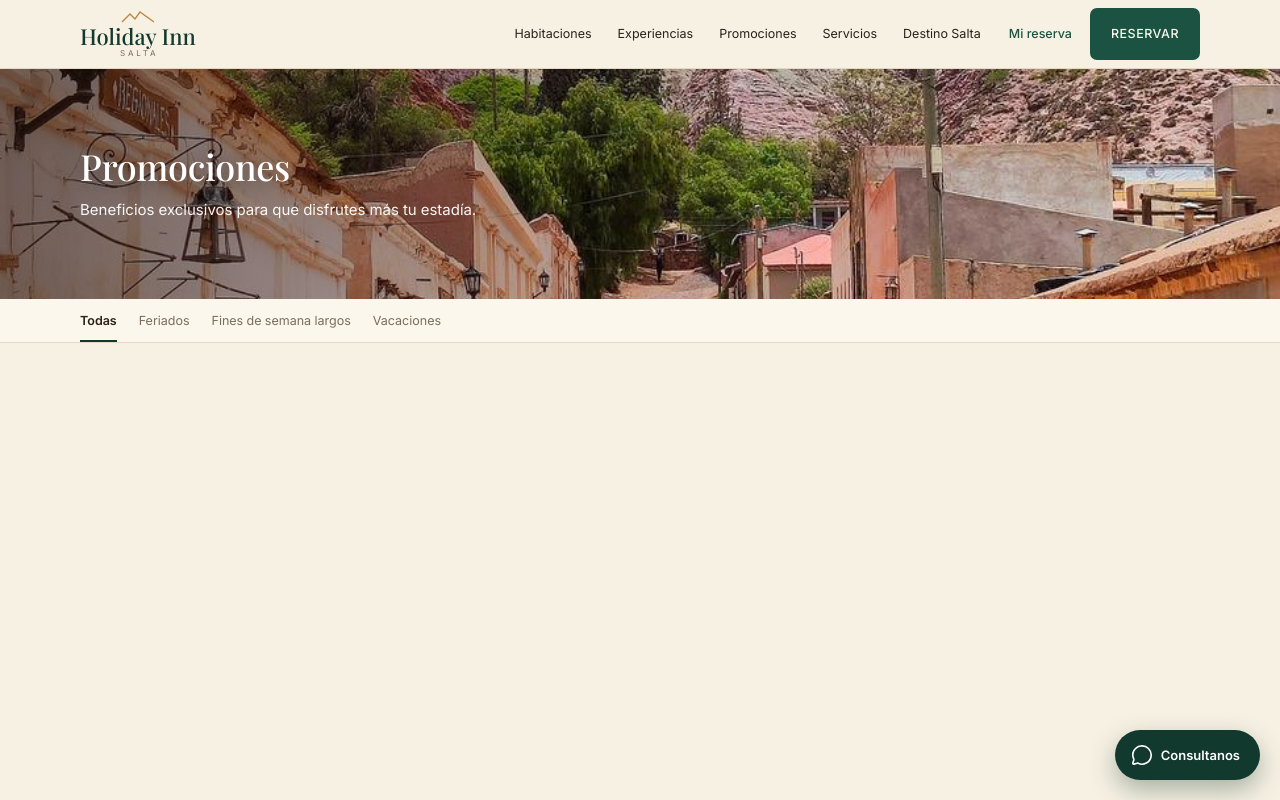
páginas del rediseño (Habitaciones, Promociones, Experiencias) › /web/promociones: la promo destacada va grande en Todas
Click the button "Feriados" at (164, 327), box [139,311,190,342]
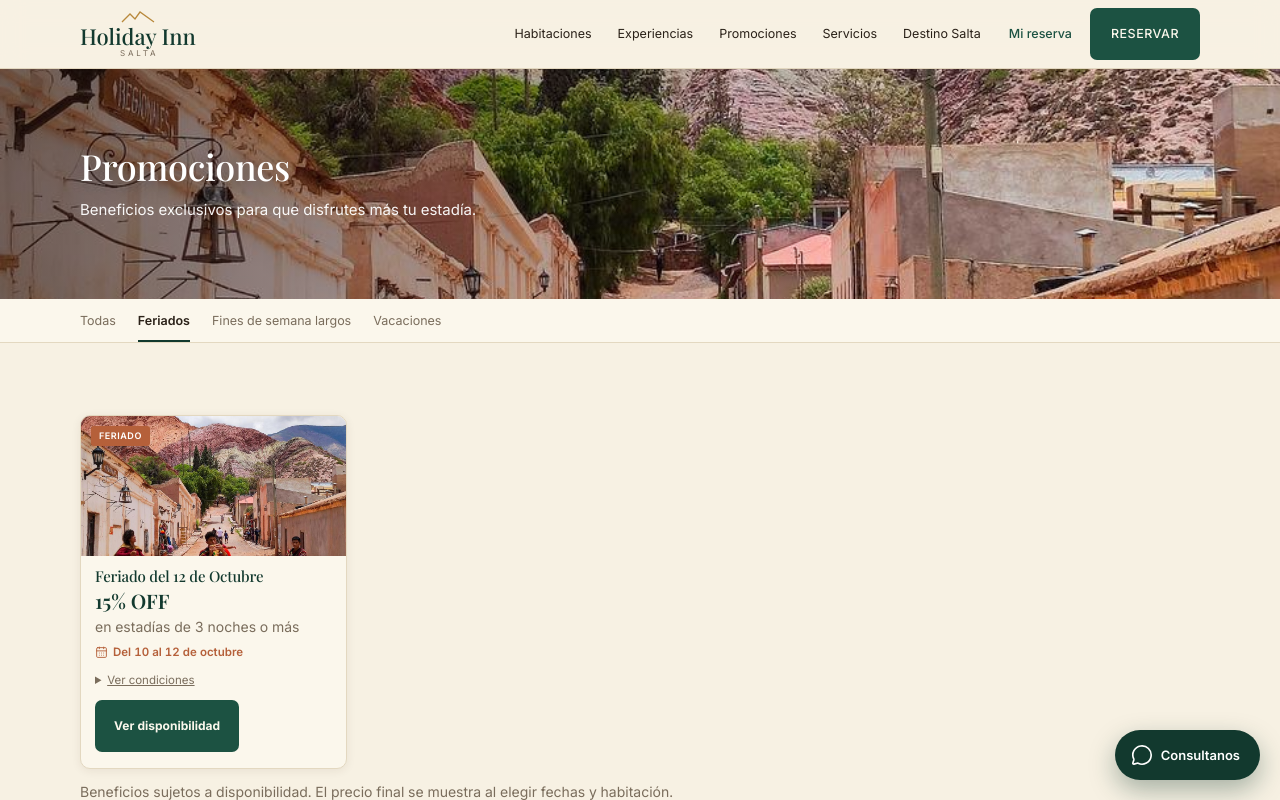
Result: the heading "Feriado del 12 de Octubre" is shown at [95,566,263,586]
